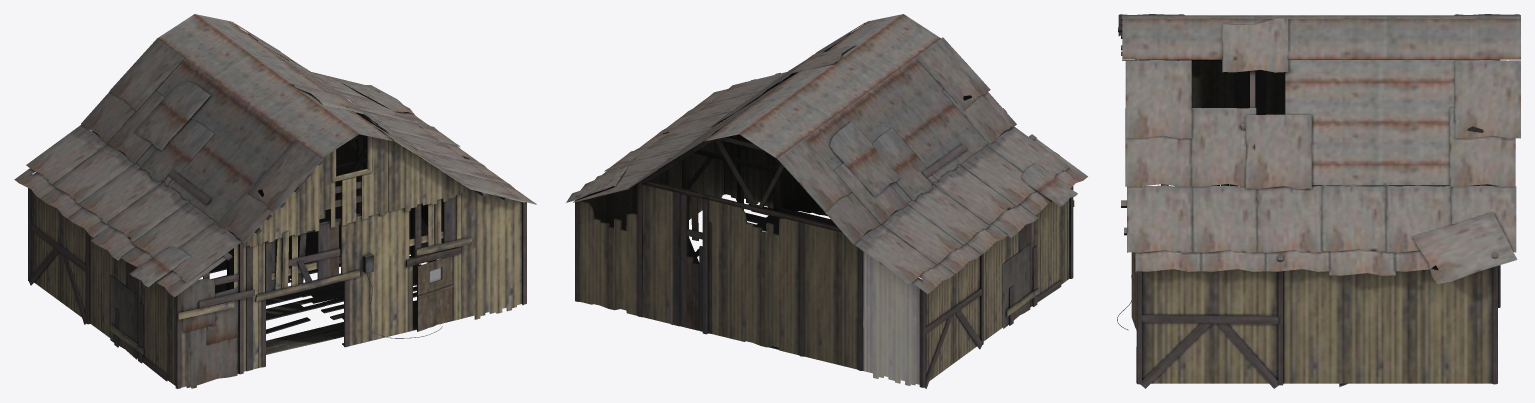
The model's file is american_old_barn.glb.
3 views of the same model, side by side, from view 1: azimuth 30°, elevation 25°; view 2: azimuth 150°, elevation 25°; view 3: azimuth 270°, elevation 25° (orthographic). The views are drawn at different scales.
Parts seen in each view (by area): view 1: Object002_Object002_mtl_0; view 2: Object002_Object002_mtl_0; view 3: Object002_Object002_mtl_0.
Boxes of the visible parts, x1,y1,x2,y2 form: Object002_Object002_mtl_0: (14, 14, 536, 388); Object002_Object002_mtl_0: (566, 14, 1087, 388); Object002_Object002_mtl_0: (1117, 14, 1520, 388).
Bounding box in the file's own units: 244 × 135 × 184.
Materials: 1 (1 with a texture image).
